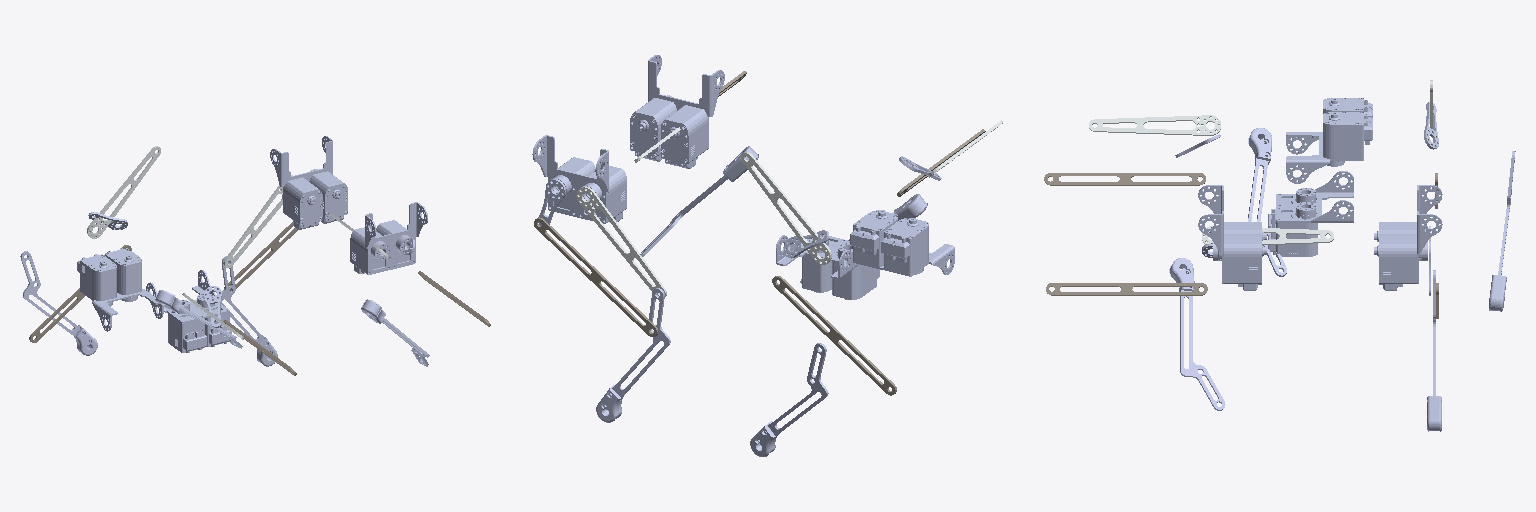
--- Render facts (derived) ---
The picture shows the robot from 3 angles, left to right: view 1: azimuth 30°, elevation 25°; view 2: azimuth 150°, elevation 25°; view 3: azimuth 270°, elevation 25°; orthographic projection.
Robot: stoch_two_abduction_urdf — 23 links, 22 joints (14 revolute, 8 continuous); root link base_link; default pose: every joint at zero.
Visible links, largest first — view 1: front_left_abd_link, back_right_abd_link, front_right_abd_link, back_left_abd_link, bl_lower_hip_link, bl_upper_hip_link, fl_lower_hip_link, fl_upper_hip_link, fr_lower_hip_link, fl_lower_knee_link, br_lower_hip_link, bl_lower_knee_link; view 2: front_right_abd_link, back_right_abd_link, front_left_abd_link, back_left_abd_link, fl_lower_hip_link, bl_lower_hip_link, bl_lower_knee_link, fl_lower_knee_link, fl_upper_hip_link, bl_upper_hip_link, fr_lower_hip_link, fl_upper_knee_link (+1 smaller); view 3: back_right_abd_link, front_right_abd_link, front_left_abd_link, back_left_abd_link, fr_lower_hip_link, br_upper_hip_link, fr_lower_knee_link, br_lower_hip_link, br_lower_knee_link, bl_lower_hip_link, fl_lower_hip_link, fr_upper_hip_link.
Boxes of the visible links, x1=… form: front_left_abd_link: x1=270, y1=136, x2=347, y2=229; back_right_abd_link: x1=77, y1=248, x2=163, y2=331; front_right_abd_link: x1=350, y1=202, x2=427, y2=274; back_left_abd_link: x1=146, y1=270, x2=231, y2=352; bl_lower_hip_link: x1=20, y1=251, x2=97, y2=355; bl_upper_hip_link: x1=87, y1=146, x2=160, y2=238; fl_lower_hip_link: x1=218, y1=256, x2=277, y2=366; fl_upper_hip_link: x1=223, y1=175, x2=292, y2=267; fr_lower_hip_link: x1=361, y1=299, x2=429, y2=366; fl_lower_knee_link: x1=224, y1=222, x2=297, y2=291; br_lower_hip_link: x1=155, y1=290, x2=242, y2=348; bl_lower_knee_link: x1=29, y1=245, x2=131, y2=342; front_right_abd_link: x1=630, y1=55, x2=724, y2=168; back_right_abd_link: x1=850, y1=210, x2=954, y2=276; front_left_abd_link: x1=532, y1=135, x2=626, y2=223; back_left_abd_link: x1=776, y1=235, x2=879, y2=299; fl_lower_hip_link: x1=596, y1=288, x2=670, y2=422; bl_lower_hip_link: x1=750, y1=343, x2=828, y2=456; bl_lower_knee_link: x1=772, y1=276, x2=896, y2=395; fl_lower_knee_link: x1=534, y1=217, x2=658, y2=336; fl_upper_hip_link: x1=576, y1=186, x2=666, y2=296; bl_upper_hip_link: x1=741, y1=152, x2=831, y2=264; fr_lower_hip_link: x1=640, y1=146, x2=758, y2=256; fl_upper_knee_link: x1=538, y1=179, x2=565, y2=225; back_right_abd_link: x1=1286, y1=98, x2=1372, y2=183; front_right_abd_link: x1=1198, y1=185, x2=1266, y2=290; front_left_abd_link: x1=1374, y1=185, x2=1442, y2=290; back_left_abd_link: x1=1268, y1=171, x2=1353, y2=256; fr_lower_hip_link: x1=1169, y1=258, x2=1225, y2=410; br_upper_hip_link: x1=1089, y1=115, x2=1220, y2=135; fr_lower_knee_link: x1=1046, y1=283, x2=1207, y2=295; br_lower_hip_link: x1=1248, y1=128, x2=1286, y2=276; br_lower_knee_link: x1=1044, y1=173, x2=1205, y2=185; bl_lower_hip_link: x1=1489, y1=151, x2=1515, y2=311; fl_lower_hip_link: x1=1427, y1=270, x2=1441, y2=431; fr_upper_hip_link: x1=1202, y1=226, x2=1333, y2=244.
Bounding box of the posed robot: 0.4245 × 0.4882 × 0.3282 m (x, y, z).
20 mesh visuals loaded from 23 distinct referenced files (20 binary STL); not drawn: 3 (reference not matched to a file when rendering).

robot.urdf — stoch_two_abduction_urdf:
<robot
  name="stoch_two_abduction_urdf">
  <link
    name="base_link">
    <inertial>
      <origin
        xyz="-0.00018289 -0.00058314 -0.0014954"
        rpy="0 0 0" />
      <mass
        value="0.75" />
      <inertia
        ixx="1.703E-05"
        ixy="4.4289E-07"
        ixz="3.1832E-08"
        iyy="8.9209E-05"
        iyz="-1.5964E-06"
        izz="0.00010459" />
    </inertial>
    <visual>
      <origin
        xyz="0 0 0"
        rpy="0 0 0" />
      <geometry>
        <mesh
          filename="package://stoch_two_abduction_urdf/meshes/base_link.STL" />
      </geometry>
      <material
        name="">
        <color
          rgba="0.79216 0.81961 0.93333 1" />
      </material>
    </visual>
    <collision>
      <origin
        xyz="0 0 0"
        rpy="0 0 0" />
      <geometry>
        <mesh
          filename="package://stoch_two_abduction_urdf/meshes/base_link.STL" />
      </geometry>
    </collision>
  </link>
  <link
    name="front_body_link">
    <inertial>
      <origin
        xyz="0.088699 3.0745E-07 0.019722"
        rpy="0 0 0" />
      <mass
        value="1" />
      <inertia
        ixx="0.0022826"
        ixy="-5.8326E-09"
        ixz="-1.2357E-05"
        iyy="0.0005698"
        iyz="4.2795E-07"
        izz="0.0026158" />
    </inertial>
    <visual>
      <origin
        xyz="0 0 0"
        rpy="0 0 0" />
      <geometry>
        <mesh
          filename="package://stoch_two_abduction_urdf/meshes/front_body_link.STL" />
      </geometry>
      <material
        name="">
        <color
          rgba="0.79216 0.81961 0.93333 1" />
      </material>
    </visual>
    <collision>
      <origin
        xyz="0 0 0"
        rpy="0 0 0" />
      <geometry>
        <mesh
          filename="package://stoch_two_abduction_urdf/meshes/front_body_link.STL" />
      </geometry>
    </collision>
  </link>
  <joint
    name="motor_front_body_spine_joint"
    type="revolute">
    <origin
      xyz="0.050947 0 0"
      rpy="-2.2019E-15 1.7035E-16 3.4422E-15" />
    <parent
      link="base_link" />
    <child
      link="front_body_link" />
    <axis
      xyz="0 1 0" />
    <limit
      lower="-0.26"
      upper="0.26"
      effort="100"
      velocity="100" />
    <dynamics
      damping="0"
      friction="0" />
  </joint>
  <link
    name="front_left_abd_link">
    <inertial>
      <origin
        xyz="4.118E-05 -0.032715 -0.048093"
        rpy="0 0 0" />
      <mass
        value="0.277" />
      <inertia
        ixx="1.1789E-05"
        ixy="2.5858E-08"
        ixz="1.1409E-07"
        iyy="4.0497E-05"
        iyz="-5.2784E-06"
        izz="4.3082E-05" />
    </inertial>
    <visual>
      <origin
        xyz="0 0 0"
        rpy="0 0 0" />
      <geometry>
        <mesh
          filename="package://stoch_two_abduction_urdf/meshes/front_left_abd_link.STL" />
      </geometry>
      <material
        name="">
        <color
          rgba="0.79216 0.81961 0.93333 1" />
      </material>
    </visual>
    <collision>
      <origin
        xyz="0 0 0"
        rpy="0 0 0" />
      <geometry>
        <mesh
          filename="package://stoch_two_abduction_urdf/meshes/front_left_abd_link.STL" />
      </geometry>
    </collision>
  </link>
  <joint
    name="motor_front_left_abd_joint"
    type="revolute">
    <origin
      xyz="0.0831 0.11512 0.0073929"
      rpy="-4.4959E-07 -5.8797E-16 3.47E-15" />
    <parent
      link="front_body_link" />
    <child
      link="front_left_abd_link" />
    <axis
      xyz="-1 0 0" />
    <limit
      lower="-0.26"
      upper="3.92"
      effort="100"
      velocity="100" />
    <dynamics
      damping="0"
      friction="0" />
  </joint>
  <link
    name="fl_upper_hip_link">
    <inertial>
      <origin
        xyz="1.793E-07 2.498E-16 -0.054218"
        rpy="0 0 0" />
      <mass
        value="0.05" />
      <inertia
        ixx="0"
        ixy="0"
        ixz="0"
        iyy="0"
        iyz="0"
        izz="0" />
    </inertial>
    <visual>
      <origin
        xyz="0 0 0"
        rpy="0 0 0" />
      <geometry>
        <mesh
          filename="package://stoch_two_abduction_urdf/meshes/fl_upper_hip_link.STL" />
      </geometry>
      <material
        name="">
        <color
          rgba="0.89804 0.91765 0.92941 1" />
      </material>
    </visual>
    <collision>
      <origin
        xyz="0 0 0"
        rpy="0 0 0" />
      <geometry>
        <mesh
          filename="package://stoch_two_abduction_urdf/meshes/fl_upper_hip_link.STL" />
      </geometry>
    </collision>
  </link>
  <joint
    name="motor_fl_upper_hip_joint"
    type="revolute">
    <origin
      xyz="-0.0175 -0.0015 -0.0385"
      rpy="-5.3246E-15 0.78557 -4.3361E-15" />
    <parent
      link="front_left_abd_link" />
    <child
      link="fl_upper_hip_link" />
    <axis
      xyz="0 -1 0" />
    <limit
      lower="-0.78"
      upper="0.78"
      effort="100"
      velocity="100" />
    <dynamics
      damping="0"
      friction="0" />
  </joint>
  <link
    name="fl_lower_hip_link">
    <inertial>
      <origin
        xyz="-0.034185 0.00011378 -0.11157"
        rpy="0 0 0" />
      <mass
        value="0.05" />
      <inertia
        ixx="1.4068E-05"
        ixy="5.4371E-09"
        ixz="-2.1257E-06"
        iyy="1.4389E-05"
        iyz="3.5983E-08"
        izz="3.213E-07" />
    </inertial>
    <visual>
      <origin
        xyz="0 0 0"
        rpy="0 0 0" />
      <geometry>
        <mesh
          filename="package://stoch_two_abduction_urdf/meshes/fl_lower_hip_link.STL" />
      </geometry>
      <material
        name="">
        <color
          rgba="0.79216 0.81961 0.93333 1" />
      </material>
    </visual>
    <collision>
      <origin
        xyz="0 0 0"
        rpy="0 0 0" />
      <geometry>
        <mesh
          filename="package://stoch_two_abduction_urdf/meshes/fl_lower_hip_link.STL" />
      </geometry>
    </collision>
  </link>
  <joint
    name="fl_lower_hip_joint"
    type="continuous">
    <origin
      xyz="0 0.0045 -0.12"
      rpy="3.7352E-14 -1.4398 -3.7103E-14" />
    <parent
      link="fl_upper_hip_link" />
    <child
      link="fl_lower_hip_link" />
    <axis
      xyz="0 1 0" />
  </joint>
  <link
    name="fl_upper_knee_link">
    <inertial>
      <origin
        xyz="-2.7756E-17 1.3878E-17 -0.014638"
        rpy="0 0 0" />
      <mass
        value="0.05" />
      <inertia
        ixx="0"
        ixy="0"
        ixz="0"
        iyy="0"
        iyz="0"
        izz="0" />
    </inertial>
    <visual>
      <origin
        xyz="0 0 0"
        rpy="0 0 0" />
      <geometry>
        <mesh
          filename="package://stoch_two_abduction_urdf/meshes/fl_upper_knee_link.STL" />
      </geometry>
      <material
        name="">
        <color
          rgba="0.79216 0.81961 0.93333 1" />
      </material>
    </visual>
    <collision>
      <origin
        xyz="0 0 0"
        rpy="0 0 0" />
      <geometry>
        <mesh
          filename="package://stoch_two_abduction_urdf/meshes/fl_upper_knee_link.STL" />
      </geometry>
    </collision>
  </link>
  <joint
    name="motor_fl_upper_knee_joint"
    type="revolute">
    <origin
      xyz="0.0175 -0.0015 -0.0385"
      rpy="-2.4427E-16 -0.34913 -3.4692E-15" />
    <parent
      link="front_left_abd_link" />
    <child
      link="fl_upper_knee_link" />
    <axis
      xyz="0 -1 0" />
    <limit
      lower="-1.22"
      upper="1.22"
      effort="100"
      velocity="100" />
    <dynamics
      damping="0"
      friction="0" />
  </joint>
  <link
    name="fl_lower_knee_link">
    <inertial>
      <origin
        xyz="2.7756E-17 1.3878E-17 -0.0775"
        rpy="0 0 0" />
      <mass
        value="0.05" />
      <inertia
        ixx="0"
        ixy="0"
        ixz="0"
        iyy="0"
        iyz="0"
        izz="0" />
    </inertial>
    <visual>
      <origin
        xyz="0 0 0"
        rpy="0 0 0" />
      <geometry>
        <mesh
          filename="package://stoch_two_abduction_urdf/meshes/fl_lower_knee_link.STL" />
      </geometry>
      <material
        name="">
        <color
          rgba="0.65098 0.61961 0.58824 1" />
      </material>
    </visual>
    <collision>
      <origin
        xyz="0 0 0"
        rpy="0 0 0" />
      <geometry>
        <mesh
          filename="package://stoch_two_abduction_urdf/meshes/fl_lower_knee_link.STL" />
      </geometry>
    </collision>
  </link>
  <joint
    name="fl_lower_knee_joint"
    type="continuous">
    <origin
      xyz="0 0.00800000000000321 -0.04"
      rpy="-6.00351684713904E-16 1.32467433907094 -5.43469254040339E-16" />
    <parent
      link="fl_upper_knee_link" />
    <child
      link="fl_lower_knee_link" />
    <axis
      xyz="0 0.999999999999798 0" />
  </joint>
  <link
    name="front_right_abd_link">
    <inertial>
      <origin
        xyz="-4.118E-05 0.032715 -0.048093"
        rpy="0 0 0" />
      <mass
        value="0.277" />
      <inertia
        ixx="1.1789E-05"
        ixy="2.5858E-08"
        ixz="-1.1409E-07"
        iyy="4.0497E-05"
        iyz="5.2784E-06"
        izz="4.3082E-05" />
    </inertial>
    <visual>
      <origin
        xyz="0 0 0"
        rpy="0 0 0" />
      <geometry>
        <mesh
          filename="package://stoch_two_abduction_urdf/meshes/front_right_abd_link.STL" />
      </geometry>
      <material
        name="">
        <color
          rgba="0.79216 0.81961 0.93333 1" />
      </material>
    </visual>
    <collision>
      <origin
        xyz="0 0 0"
        rpy="0 0 0" />
      <geometry>
        <mesh
          filename="package://stoch_two_abduction_urdf/meshes/front_right_abd_link.STL" />
      </geometry>
    </collision>
  </link>
  <joint
    name="motor_front_right_abd_joint"
    type="revolute">
    <origin
      xyz="0.0831 -0.11512 0.007393"
      rpy="-6.5915E-08 5.6553E-16 3.5412E-15" />
    <parent
      link="front_body_link" />
    <child
      link="front_right_abd_link" />
    <axis
      xyz="1 0 0" />
    <limit
      lower="-0.26"
      upper="3.92"
      effort="100"
      velocity="100" />
    <dynamics
      damping="0"
      friction="0" />
  </joint>
  <link
    name="fr_upper_hip_link">
    <inertial>
      <origin
        xyz="1.793E-07 2.7756E-16 -0.054218"
        rpy="0 0 0" />
      <mass
        value="0.05" />
      <inertia
        ixx="0"
        ixy="0"
        ixz="0"
        iyy="0"
        iyz="0"
        izz="0" />
    </inertial>
    <visual>
      <origin
        xyz="0 0 0"
        rpy="0 0 0" />
      <geometry>
        <mesh
          filename="package://stoch_two_abduction_urdf/meshes/fr_upper_hip_link.STL" />
      </geometry>
      <material
        name="">
        <color
          rgba="0.89804 0.91765 0.92941 1" />
      </material>
    </visual>
    <collision>
      <origin
        xyz="0 0 0"
        rpy="0 0 0" />
      <geometry>
        <mesh
          filename="package://stoch_two_abduction_urdf/meshes/fr_upper_hip_link.STL" />
      </geometry>
    </collision>
  </link>
  <joint
    name="motor_fr_upper_hip_joint"
    type="revolute">
    <origin
      xyz="-0.0175 0.0015 -0.0385"
      rpy="-4.9286E-15 0.78557 -3.9063E-15" />
    <parent
      link="front_right_abd_link" />
    <child
      link="fr_upper_hip_link" />
    <axis
      xyz="0 -1 0" />
    <limit
      lower="-0.78"
      upper="0.78"
      effort="100"
      velocity="100" />
    <dynamics
      damping="0"
      friction="0" />
  </joint>
  <link
    name="fr_lower_hip_link">
    <inertial>
      <origin
        xyz="-0.034185 0.00011378 -0.11157"
        rpy="0 0 0" />
      <mass
        value="0.05" />
      <inertia
        ixx="1.4068E-05"
        ixy="5.4371E-09"
        ixz="-2.1257E-06"
        iyy="1.4389E-05"
        iyz="3.5983E-08"
        izz="3.213E-07" />
    </inertial>
    <visual>
      <origin
        xyz="0 0 0"
        rpy="0 0 0" />
      <geometry>
        <mesh
          filename="package://stoch_two_abduction_urdf/meshes/fr_lower_hip_link.STL" />
      </geometry>
      <material
        name="">
        <color
          rgba="0.79216 0.81961 0.93333 1" />
      </material>
    </visual>
    <collision>
      <origin
        xyz="0 0 0"
        rpy="0 0 0" />
      <geometry>
        <mesh
          filename="package://stoch_two_abduction_urdf/meshes/fr_lower_hip_link.STL" />
      </geometry>
    </collision>
  </link>
  <joint
    name="fr_lower_hip_joint"
    type="continuous">
    <origin
      xyz="0 -0.0045 -0.12"
      rpy="0 -1.4398 0" />
    <parent
      link="fr_upper_hip_link" />
    <child
      link="fr_lower_hip_link" />
    <axis
      xyz="0 1 0" />
  </joint>
  <link
    name="fr_upper_knee_link">
    <inertial>
      <origin
        xyz="-2.7756E-17 -1.3878E-17 -0.014638"
        rpy="0 0 0" />
      <mass
        value="0.05" />
      <inertia
        ixx="0"
        ixy="0"
        ixz="0"
        iyy="0"
        iyz="0"
        izz="0" />
    </inertial>
    <visual>
      <origin
        xyz="0 0 0"
        rpy="0 0 0" />
      <geometry>
        <mesh
          filename="package://stoch_two_abduction_urdf/meshes/fr_upper_knee_link.STL" />
      </geometry>
      <material
        name="">
        <color
          rgba="0.79216 0.81961 0.93333 1" />
      </material>
    </visual>
    <collision>
      <origin
        xyz="0 0 0"
        rpy="0 0 0" />
      <geometry>
        <mesh
          filename="package://stoch_two_abduction_urdf/meshes/fr_upper_knee_link.STL" />
      </geometry>
    </collision>
  </link>
  <joint
    name="motor_fr_upper_knee_joint"
    type="revolute">
    <origin
      xyz="0.0175 0.0015 -0.0385"
      rpy="2.2844E-18 -0.34913 -3.3454E-15" />
    <parent
      link="front_right_abd_link" />
    <child
      link="fr_upper_knee_link" />
    <axis
      xyz="0 -1 0" />
    <limit
      lower="-1.22"
      upper="1.22"
      effort="100"
      velocity="100" />
    <dynamics
      damping="0"
      friction="0" />
  </joint>
  <link
    name="fr_lower_knee_link">
    <inertial>
      <origin
        xyz="2.7756E-17 -1.3878E-17 -0.0775"
        rpy="0 0 0" />
      <mass
        value="0.05" />
      <inertia
        ixx="0"
        ixy="0"
        ixz="0"
        iyy="0"
        iyz="0"
        izz="0" />
    </inertial>
    <visual>
      <origin
        xyz="0 0 0"
        rpy="0 0 0" />
      <geometry>
        <mesh
          filename="package://stoch_two_abduction_urdf/meshes/fr_lower_knee_link.STL" />
      </geometry>
      <material
        name="">
        <color
          rgba="0.65098 0.61961 0.58824 1" />
      </material>
    </visual>
    <collision>
      <origin
        xyz="0 0 0"
        rpy="0 0 0" />
      <geometry>
        <mesh
          filename="package://stoch_two_abduction_urdf/meshes/fr_lower_knee_link.STL" />
      </geometry>
    </collision>
  </link>
  <joint
    name="fr_lower_knee_joint"
    type="continuous">
    <origin
      xyz="0 -0.008 -0.04"
      rpy="-1.3511E-15 1.3247 -1.2659E-15" />
    <parent
      link="fr_upper_knee_link" />
    <child
      link="fr_lower_knee_link" />
    <axis
      xyz="0 1 0" />
  </joint>
  <link
    name="back_body_link">
    <inertial>
      <origin
        xyz="-0.088631 -3.0557E-07 0.019269"
        rpy="0 0 0" />
      <mass
        value="1.43" />
      <inertia
        ixx="0.0022927"
        ixy="-5.8531E-09"
        ixz="-7.6887E-08"
        iyy="0.00058938"
        iyz="4.2524E-07"
        izz="0.0026252" />
    </inertial>
    <visual>
      <origin
        xyz="0 0 0"
        rpy="0 0 0" />
      <geometry>
        <mesh
          filename="package://stoch_two_abduction_urdf/meshes/back_body_link.STL" />
      </geometry>
      <material
        name="">
        <color
          rgba="0.79216 0.81961 0.93333 1" />
      </material>
    </visual>
    <collision>
      <origin
        xyz="0 0 0"
        rpy="0 0 0" />
      <geometry>
        <mesh
          filename="package://stoch_two_abduction_urdf/meshes/back_body_link.STL" />
      </geometry>
    </collision>
  </link>
  <joint
    name="motor_back_body_spine_joint"
    type="revolute">
    <origin
      xyz="-0.051053 0 0"
      rpy="-3.1503E-15 1.7035E-16 -1.0297E-14" />
    <parent
      link="base_link" />
    <child
      link="back_body_link" />
    <axis
      xyz="0 1 0" />
    <limit
      lower="-0.26"
      upper="0.26"
      effort="100"
      velocity="100" />
    <dynamics
      damping="0"
      friction="0" />
  </joint>
  <link
    name="back_left_abd_link">
    <inertial>
      <origin
        xyz="4.118E-05 -0.032715 -0.048093"
        rpy="0 0 0" />
      <mass
        value="0.277" />
      <inertia
        ixx="1.1789E-05"
        ixy="2.5858E-08"
        ixz="1.1409E-07"
        iyy="4.0497E-05"
        iyz="-5.2784E-06"
        izz="4.3082E-05" />
    </inertial>
    <visual>
      <origin
        xyz="0 0 0"
        rpy="0 0 0" />
      <geometry>
        <mesh
          filename="package://stoch_two_abduction_urdf/meshes/back_left_abd_link.STL" />
      </geometry>
      <material
        name="">
        <color
          rgba="0.79216 0.81961 0.93333 1" />
      </material>
    </visual>
    <collision>
      <origin
        xyz="0 0 0"
        rpy="0 0 0" />
      <geometry>
        <mesh
          filename="package://stoch_two_abduction_urdf/meshes/back_left_abd_link.STL" />
      </geometry>
    </collision>
  </link>
  <joint
    name="motor_back_left_abd_joint"
    type="revolute">
    <origin
      xyz="-0.0857 0.11512 0.007393"
      rpy="-4.4959E-07 -3.1031E-16 -5.0331E-14" />
    <parent
      link="back_body_link" />
    <child
      link="back_left_abd_link" />
    <axis
      xyz="-1 0 0" />
    <limit
      lower="-0.26"
      upper="3.92"
      effort="100"
      velocity="100" />
    <dynamics
      damping="0"
      friction="0" />
  </joint>
  <link
    name="bl_upper_hip_link">
    <inertial>
      <origin
        xyz="1.793E-07 2.498E-16 -0.054218"
        rpy="0 0 0" />
      <mass
        value="0.05" />
      <inertia
        ixx="0"
        ixy="0"
        ixz="0"
        iyy="0"
        iyz="0"
        izz="0" />
    </inertial>
    <visual>
      <origin
        xyz="0 0 0"
        rpy="0 0 0" />
      <geometry>
        <mesh
          filename="package://stoch_two_abduction_urdf/meshes/bl_upper_hip_link.STL" />
      </geometry>
      <material
        name="">
        <color
          rgba="0.89804 0.91765 0.92941 1" />
      </material>
    </visual>
    <collision>
      <origin
        xyz="0 0 0"
        rpy="0 0 0" />
      <geometry>
        <mesh
          filename="package://stoch_two_abduction_urdf/meshes/bl_upper_hip_link.STL" />
      </geometry>
    </collision>
  </link>
  <joint
    name="motor_bl_upper_hip_joint"
    type="revolute">
    <origin
      xyz="-0.0175 -0.0015 -0.0385"
      rpy="-4.7626E-15 0.7854 3.3627E-15" />
    <parent
      link="back_left_abd_link" />
    <child
      link="bl_upper_hip_link" />
    <axis
      xyz="0 -1 0" />
    <limit
      lower="-0.78"
      upper="0.78"
      effort="100"
      velocity="100" />
    <dynamics
      damping="0"
      friction="0" />
  </joint>
  <link
    name="bl_lower_hip_link">
    <inertial>
      <origin
        xyz="-0.034185 0.00011378 -0.11157"
        rpy="0 0 0" />
      <mass
        value="0.05" />
      <inertia
        ixx="1.4068E-05"
        ixy="5.4371E-09"
        ixz="-2.1257E-06"
        iyy="1.4389E-05"
        iyz="3.5983E-08"
        izz="3.213E-07" />
    </inertial>
    <visual>
      <origin
        xyz="0 0 0"
        rpy="0 0 0" />
      <geometry>
        <mesh
          filename="package://stoch_two_abduction_urdf/meshes/bl_lower_hip_link.STL" />
      </geometry>
      <material
        name="">
        <color
          rgba="0.79216 0.81961 0.93333 1" />
      </material>
    </visual>
    <collision>
      <origin
        xyz="0 0 0"
        rpy="0 0 0" />
      <geometry>
        <mesh
          filename="package://stoch_two_abduction_urdf/meshes/bl_lower_hip_link.STL" />
      </geometry>
    </collision>
  </link>
  <joint
    name="bl_lower_hip_joint"
    type="continuous">
    <origin
      xyz="0 0.0045 -0.12"
      rpy="3.8659E-14 -1.4394 -3.8737E-14" />
    <parent
      link="bl_upper_hip_link" />
    <child
      link="bl_lower_hip_link" />
    <axis
      xyz="0 1 0" />
  </joint>
  <link
    name="bl_upper_knee_link">
    <inertial>
      <origin
        xyz="0 1.3878E-17 -0.014638"
        rpy="0 0 0" />
      <mass
        value="0.05" />
      <inertia
        ixx="0"
        ixy="0"
        ixz="0"
        iyy="0"
        iyz="0"
        izz="0" />
    </inertial>
    <visual>
      <origin
        xyz="0 0 0"
        rpy="0 0 0" />
      <geometry>
        <mesh
          filename="package://stoch_two_abduction_urdf/meshes/bl_upper_knee_link.STL" />
      </geometry>
      <material
        name="">
        <color
          rgba="0.79216 0.81961 0.93333 1" />
      </material>
    </visual>
    <collision>
      <origin
        xyz="0 0 0"
        rpy="0 0 0" />
      <geometry>
        <mesh
          filename="package://stoch_two_abduction_urdf/meshes/bl_upper_knee_link.STL" />
      </geometry>
    </collision>
  </link>
  <joint
    name="motor_bl_upper_knee_joint"
    type="revolute">
    <origin
      xyz="0.0175 -0.0015 -0.0385"
      rpy="-6.7366E-18 -0.34907 3.4938E-15" />
    <parent
      link="back_left_abd_link" />
    <child
      link="bl_upper_knee_link" />
    <axis
      xyz="0 -1 0" />
    <limit
      lower="-1.22"
      upper="1.22"
      effort="100"
      velocity="100" />
    <dynamics
      damping="0"
      friction="0" />
  </joint>
  <link
    name="bl_lower_knee_link">
    <inertial>
      <origin
        xyz="1.301E-18 0 -0.0775"
        rpy="0 0 0" />
      <mass
        value="0.05" />
      <inertia
        ixx="0"
        ixy="0"
        ixz="0"
        iyy="0"
        iyz="0"
        izz="0" />
    </inertial>
    <visual>
      <origin
        xyz="0 0 0"
        rpy="0 0 0" />
      <geometry>
        <mesh
          filename="package://stoch_two_abduction_urdf/meshes/bl_lower_knee_link.STL" />
      </geometry>
      <material
        name="">
        <color
          rgba="0.65098 0.61961 0.58824 1" />
      </material>
    </visual>
    <collision>
      <origin
        xyz="0 0 0"
        rpy="0 0 0" />
      <geometry>
        <mesh
          filename="package://stoch_two_abduction_urdf/meshes/bl_lower_knee_link.STL" />
      </geometry>
    </collision>
  </link>
  <joint
    name="bl_lower_knee_joint"
    type="continuous">
    <origin
      xyz="0 0.008 -0.04"
      rpy="-1.9439E-16 1.3245 -1.3657E-16" />
    <parent
      link="bl_upper_knee_link" />
    <child
      link="bl_lower_knee_link" />
    <axis
      xyz="0 1 0" />
  </joint>
  <link
    name="back_right_abd_link">
    <inertial>
      <origin
        xyz="-4.118E-05 0.032715 -0.048093"
        rpy="0 0 0" />
      <mass
        value="0.277" />
      <inertia
        ixx="1.1789E-05"
        ixy="2.5858E-08"
        ixz="-1.1409E-07"
        iyy="4.0497E-05"
        iyz="5.2784E-06"
        izz="4.3082E-05" />
    </inertial>
    <visual>
      <origin
        xyz="0 0 0"
        rpy="0 0 0" />
      <geometry>
        <mesh
          filename="package://stoch_two_abduction_urdf/meshes/back_right_abd_link.STL" />
      </geometry>
      <material
        name="">
        <color
          rgba="0.79216 0.81961 0.93333 1" />
      </material>
    </visual>
    <collision>
      <origin
        xyz="0 0 0"
        rpy="0 0 0" />
      <geometry>
        <mesh
          filename="package://stoch_two_abduction_urdf/meshes/back_right_abd_link.STL" />
      </geometry>
    </collision>
  </link>
  <joint
    name="motor_back_right_abd_joint"
    type="revolute">
    <origin
      xyz="-0.0857 -0.11512 0.007393"
      rpy="4.4959E-07 8.3667E-16 1.0447E-14" />
    <parent
      link="back_body_link" />
    <child
      link="back_right_abd_link" />
    <axis
      xyz="1 0 0" />
    <limit
      lower="-0.26"
      upper="3.92"
      effort="100"
      velocity="100" />
    <dynamics
      damping="0"
      friction="0" />
  </joint>
  <link
    name="br_upper_hip_link">
    <inertial>
      <origin
        xyz="1.793E-07 2.3592E-16 -0.054218"
        rpy="0 0 0" />
      <mass
        value="0.05" />
      <inertia
        ixx="0"
        ixy="0"
        ixz="0"
        iyy="0"
        iyz="0"
        izz="0" />
    </inertial>
    <visual>
      <origin
        xyz="0 0 0"
        rpy="0 0 0" />
      <geometry>
        <mesh
          filename="package://stoch_two_abduction_urdf/meshes/br_upper_hip_link.STL" />
      </geometry>
      <material
        name="">
        <color
          rgba="0.89804 0.91765 0.92941 1" />
      </material>
    </visual>
    <collision>
      <origin
        xyz="0 0 0"
        rpy="0 0 0" />
      <geometry>
        <mesh
          filename="package://stoch_two_abduction_urdf/meshes/br_upper_hip_link.STL" />
      </geometry>
    </collision>
  </link>
  <joint
    name="motor_br_upper_hip_joint"
    type="revolute">
    <origin
      xyz="-0.0175 0.0015 -0.0385"
      rpy="-5.0242E-15 0.7854 4.6722E-14" />
    <parent
      link="back_right_abd_link" />
    <child
      link="br_upper_hip_link" />
    <axis
      xyz="0 -1 0" />
    <limit
      lower="-0.78"
      upper="0.78"
      effort="100"
      velocity="100" />
    <dynamics
      damping="0"
      friction="0" />
  </joint>
  <link
    name="br_lower_hip_link">
    <inertial>
      <origin
        xyz="-0.034185 0.00011378 -0.11157"
        rpy="0 0 0" />
      <mass
        value="0.05" />
      <inertia
        ixx="1.4068E-05"
        ixy="5.4371E-09"
        ixz="-2.1257E-06"
        iyy="1.4389E-05"
        iyz="3.5983E-08"
        izz="3.213E-07" />
    </inertial>
    <visual>
      <origin
        xyz="0 0 0"
        rpy="0 0 0" />
      <geometry>
        <mesh
          filename="package://stoch_two_abduction_urdf/meshes/br_lower_hip_link.STL" />
      </geometry>
      <material
        name="">
        <color
          rgba="0.79216 0.81961 0.93333 1" />
      </material>
    </visual>
    <collision>
      <origin
        xyz="0 0 0"
        rpy="0 0 0" />
      <geometry>
        <mesh
          filename="package://stoch_two_abduction_urdf/meshes/br_lower_hip_link.STL" />
      </geometry>
    </collision>
  </link>
  <joint
    name="br_lower_hip_joint"
    type="continuous">
    <origin
      xyz="0 -0.0045 -0.12"
      rpy="3.8983E-14 -1.4388 -3.8443E-14" />
    <parent
      link="br_upper_hip_link" />
    <child
      link="br_lower_hip_link" />
    <axis
      xyz="0 1 0" />
  </joint>
  <link
    name="br_upper_knee_link">
    <inertial>
      <origin
        xyz="2.7756E-17 -1.3878E-17 -0.014638"
        rpy="0 0 0" />
      <mass
        value="0.05" />
      <inertia
        ixx="0"
        ixy="0"
        ixz="0"
        iyy="0"
        iyz="0"
        izz="0" />
    </inertial>
    <visual>
      <origin
        xyz="0 0 0"
        rpy="0 0 0" />
      <geometry>
        <mesh
          filename="package://stoch_two_abduction_urdf/meshes/br_upper_knee_link.STL" />
      </geometry>
      <material
        name="">
        <color
          rgba="0.79216 0.81961 0.93333 1" />
      </material>
    </visual>
    <collision>
      <origin
        xyz="0 0 0"
        rpy="0 0 0" />
      <geometry>
        <mesh
          filename="package://stoch_two_abduction_urdf/meshes/br_upper_knee_link.STL" />
      </geometry>
    </collision>
  </link>
  <joint
    name="motor_br_upper_knee_joint"
    type="revolute">
    <origin
      xyz="0.0175 0.0015 -0.0385"
      rpy="1.0343E-16 -0.34907 4.7367E-14" />
    <parent
      link="back_right_abd_link" />
    <child
      link="br_upper_knee_link" />
    <axis
      xyz="0 -1 0" />
    <limit
      lower="-1.22"
      upper="1.22"
      effort="100"
      velocity="100" />
    <dynamics
      damping="0"
      friction="0" />
  </joint>
  <link
    name="br_lower_knee_link">
    <inertial>
      <origin
        xyz="-2.6021E-17 -2.7756E-17 -0.0775"
        rpy="0 0 0" />
      <mass
        value="0.05" />
      <inertia
        ixx="0"
        ixy="0"
        ixz="0"
        iyy="0"
        iyz="0"
        izz="0" />
    </inertial>
    <visual>
      <origin
        xyz="0 0 0"
        rpy="0 0 0" />
      <geometry>
        <mesh
          filename="package://stoch_two_abduction_urdf/meshes/br_lower_knee_link.STL" />
      </geometry>
      <material
        name="">
        <color
          rgba="0.65098 0.61961 0.58824 1" />
      </material>
    </visual>
    <collision>
      <origin
        xyz="0 0 0"
        rpy="0 0 0" />
      <geometry>
        <mesh
          filename="package://stoch_two_abduction_urdf/meshes/br_lower_knee_link.STL" />
      </geometry>
    </collision>
  </link>
  <joint
    name="br_lower_knee_joint"
    type="continuous">
    <origin
      xyz="0 -0.008 -0.04"
      rpy="7.1694E-17 1.3245 4.3167E-17" />
    <parent
      link="br_upper_knee_link" />
    <child
      link="br_lower_knee_link" />
    <axis
      xyz="0 1 0" />
  </joint>
</robot>
